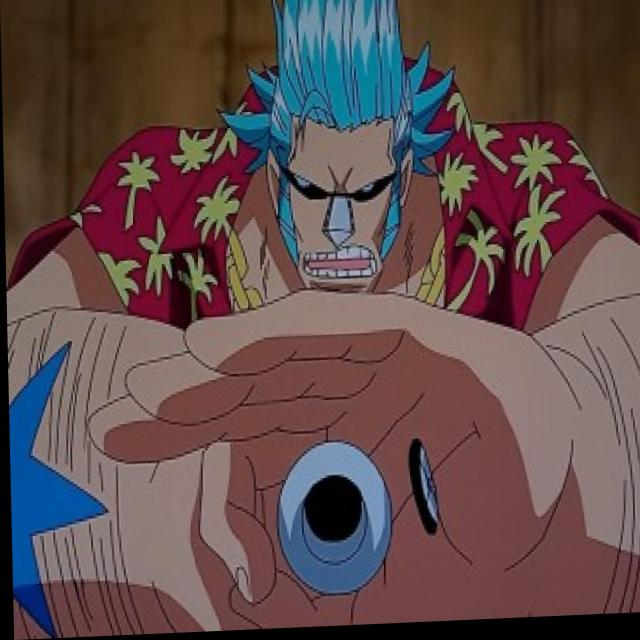Franky: (225, 0, 439, 300)
